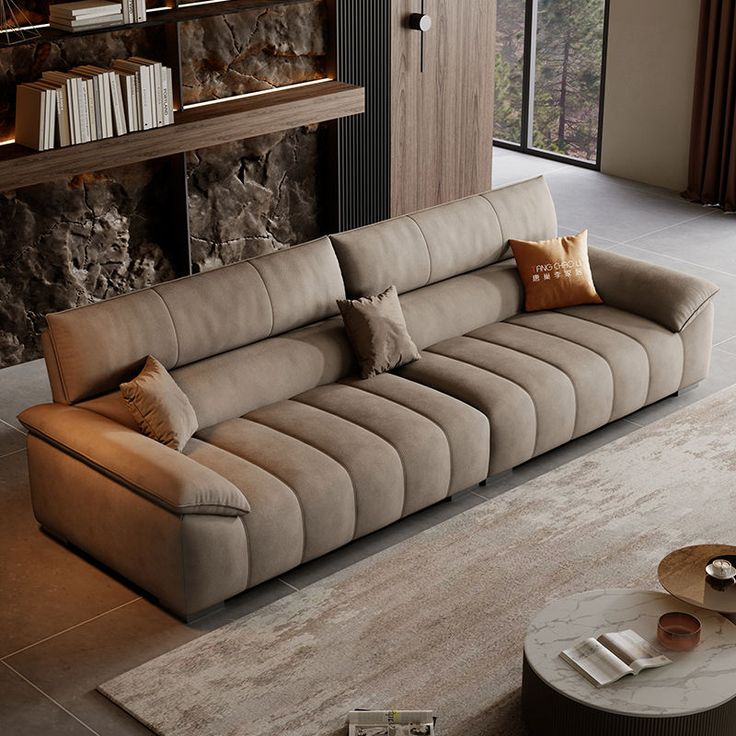3seatersofa: (19, 177, 716, 618)
backrest: (43, 177, 555, 427)
leftarmrest: (589, 248, 718, 332)
leg: (29, 437, 246, 614), (675, 301, 713, 390)
pillow: (338, 285, 419, 378), (120, 356, 199, 450), (510, 229, 601, 310)
rightarmrest: (22, 404, 249, 516)
seat: (188, 307, 682, 582)
